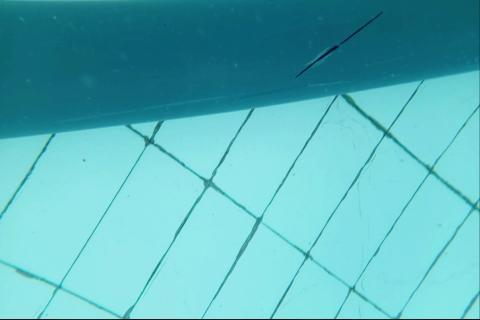keretakan: (293, 9, 381, 79)
